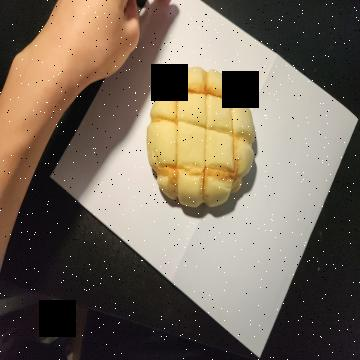melon_bread: (147, 67, 256, 210)
